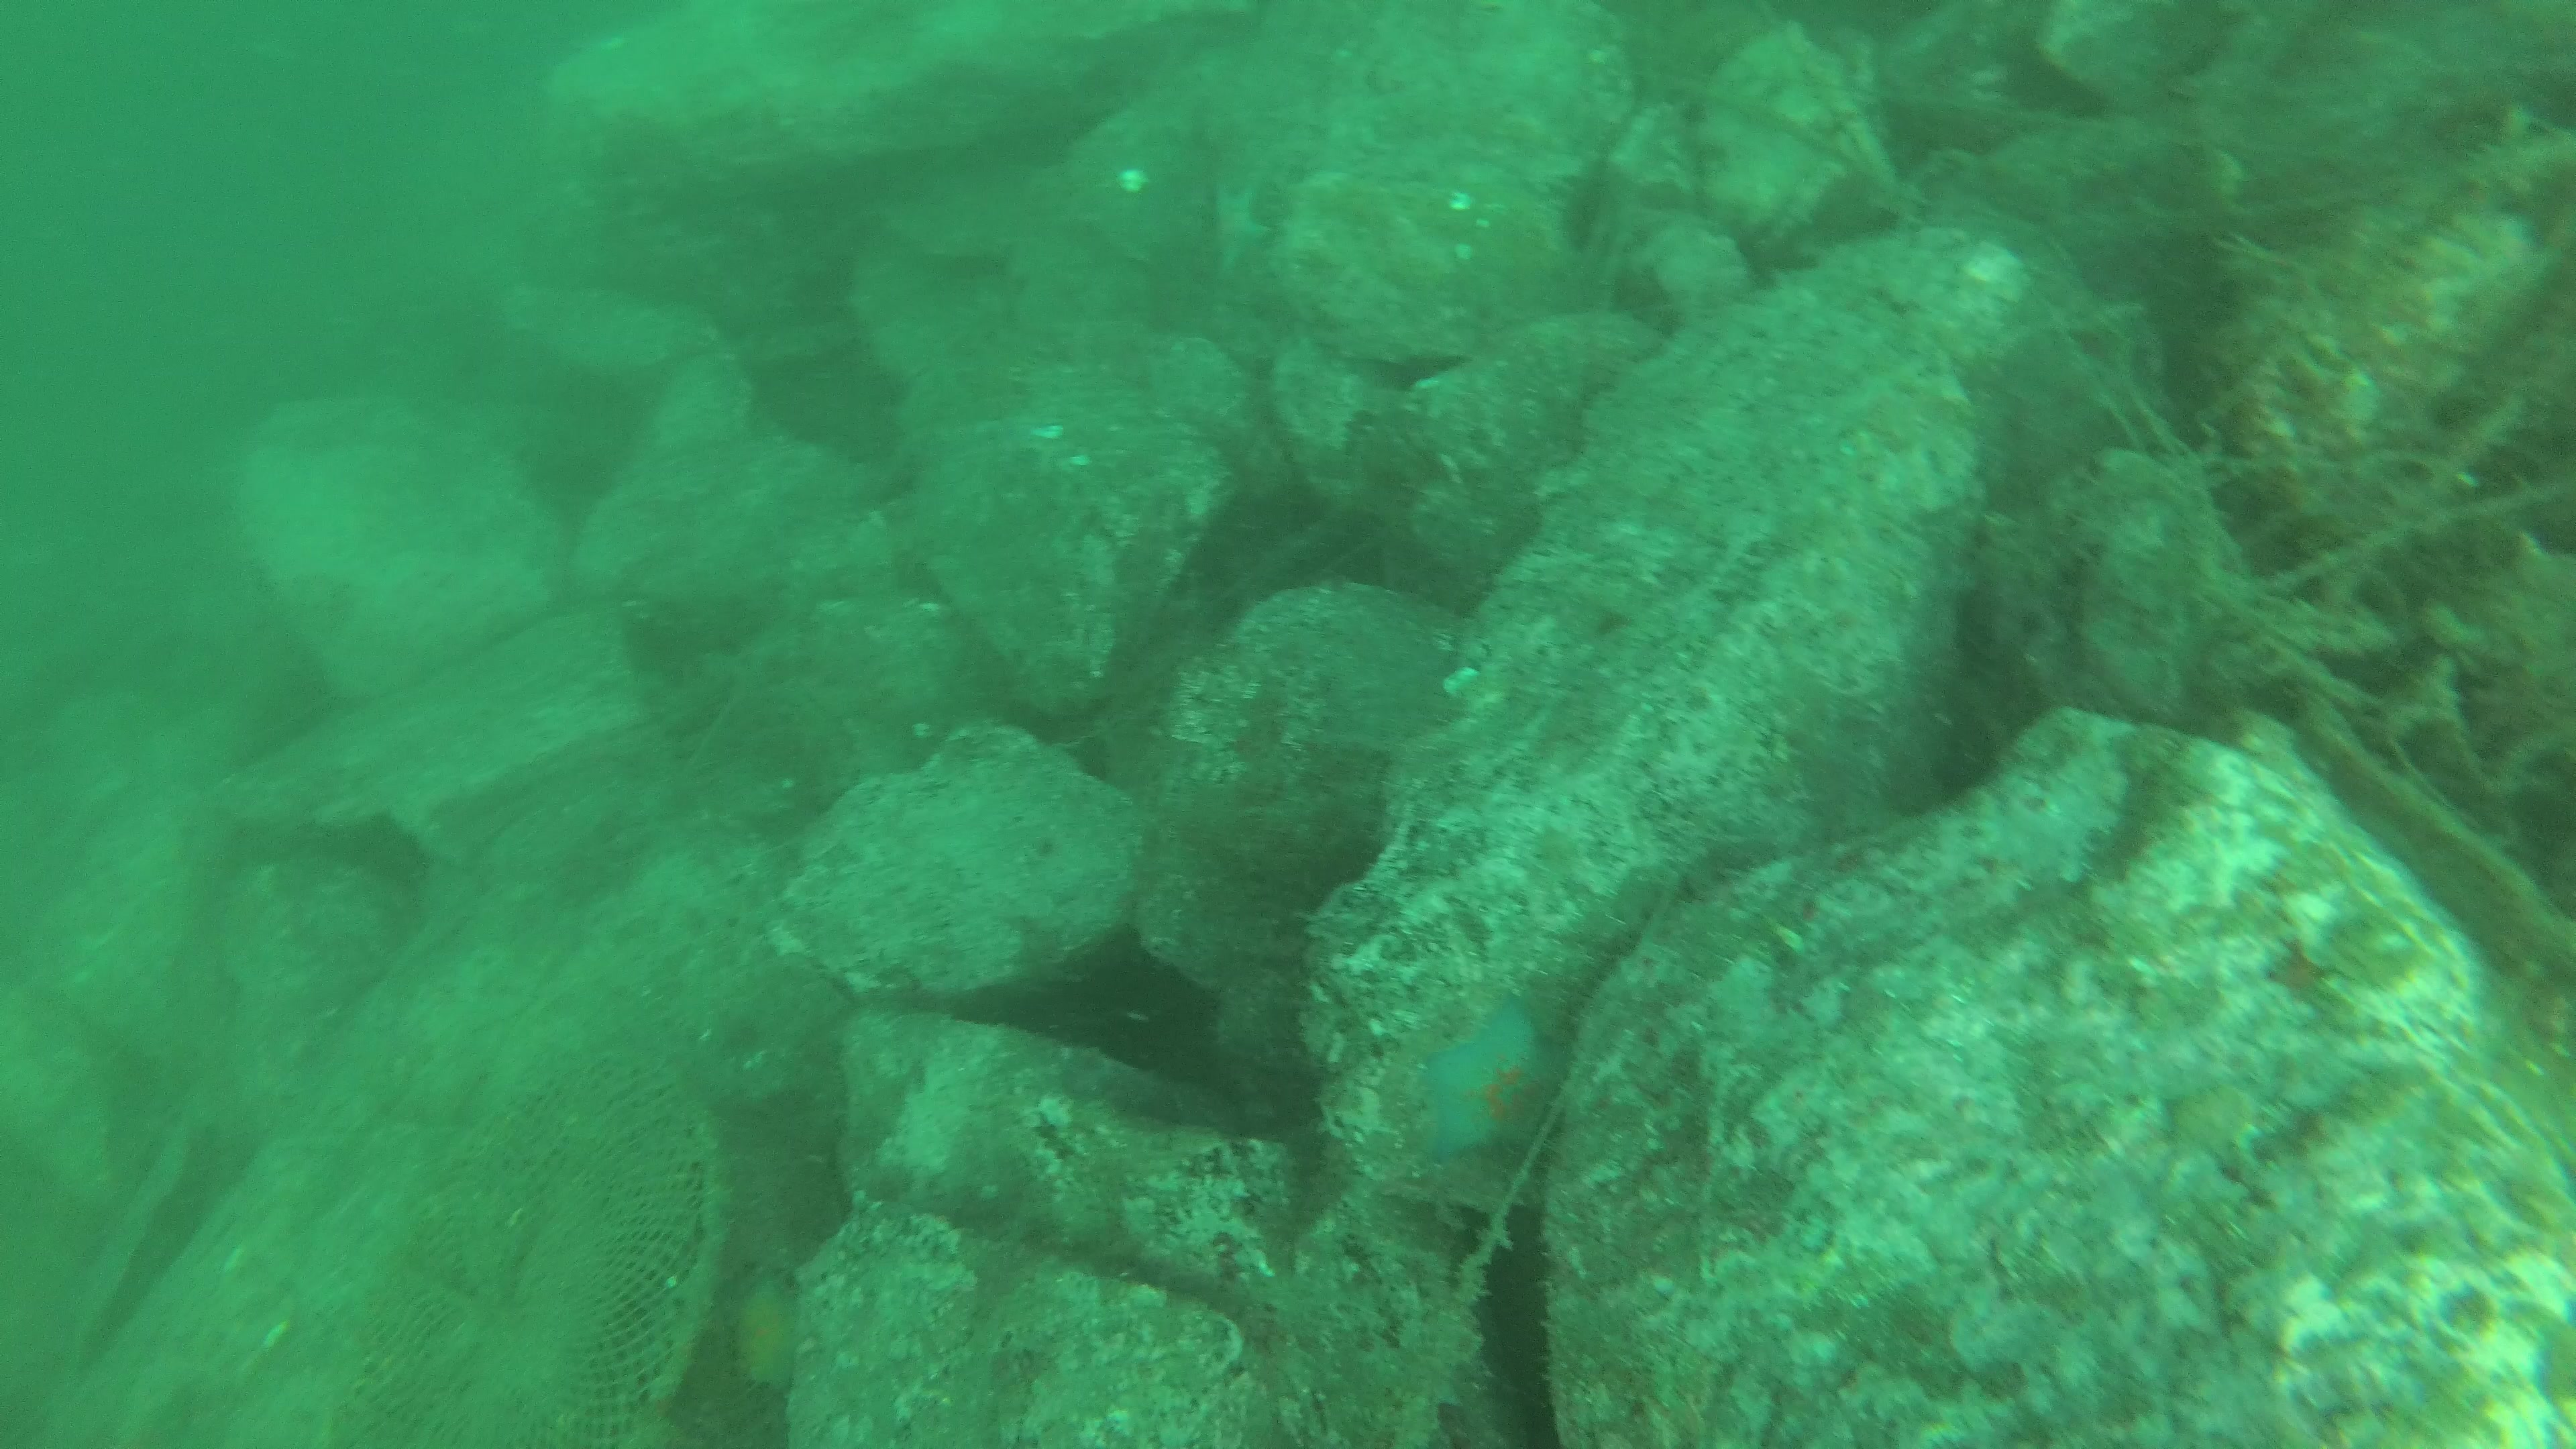echinus: (1047, 943, 1203, 1085)
holothurian: (1343, 395, 1476, 483)
starfish: (1428, 994, 1571, 1166), (722, 1277, 805, 1399)
